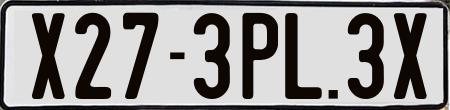2: (73, 12, 112, 102)
3: (194, 10, 234, 99), (348, 11, 388, 97)
7: (123, 12, 164, 100)
L: (284, 10, 324, 101)
P: (241, 13, 279, 105)
X: (393, 10, 432, 98), (32, 13, 66, 104)
